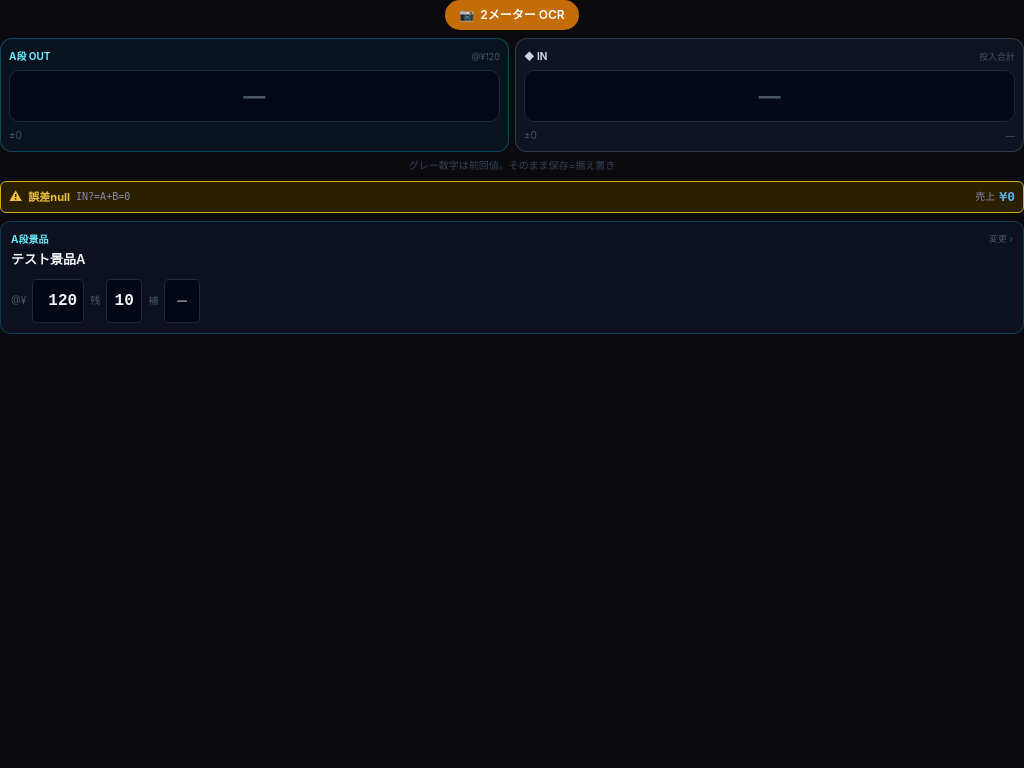
GachaInputV3 — 景品変更モーダルの誤発火防止 › モーダルを閉じると非表示になる
This screenshot has width=1024, height=768.
Click the text "変更 ›" at (1001,239), box [989,232,1013,246]
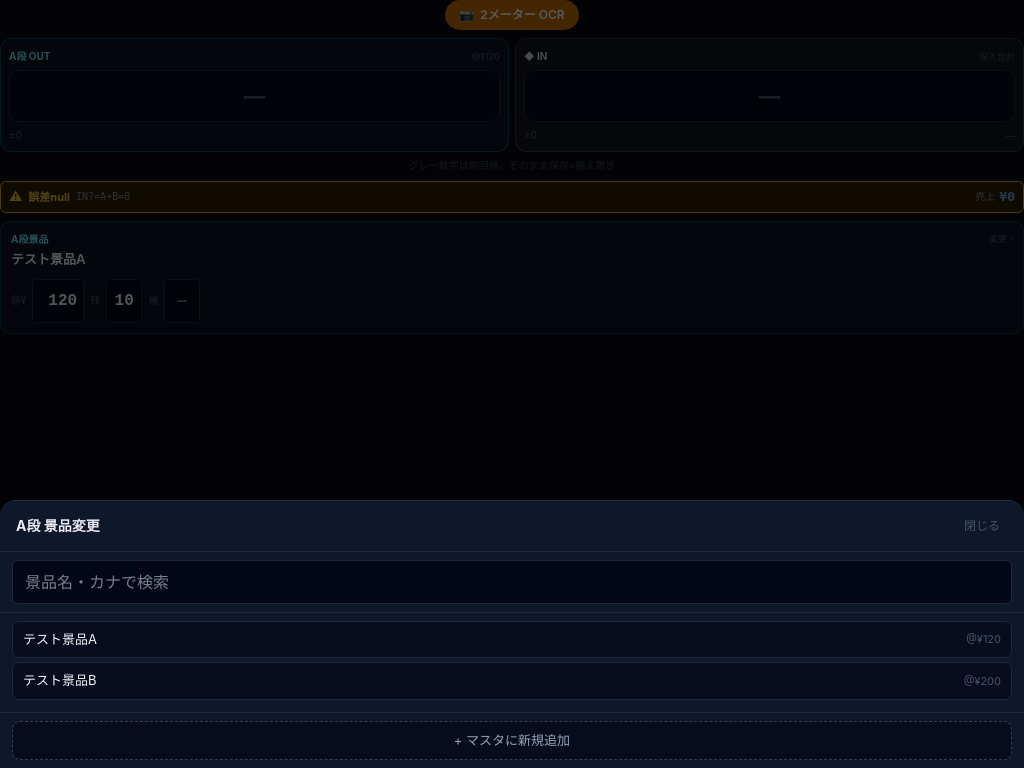
Check: the text "A段 景品変更" is shown, box [16,515,100,536]
「閉じる」ボタンをクリック
Click the button "閉じる" at (982,526), box [956,512,1008,538]
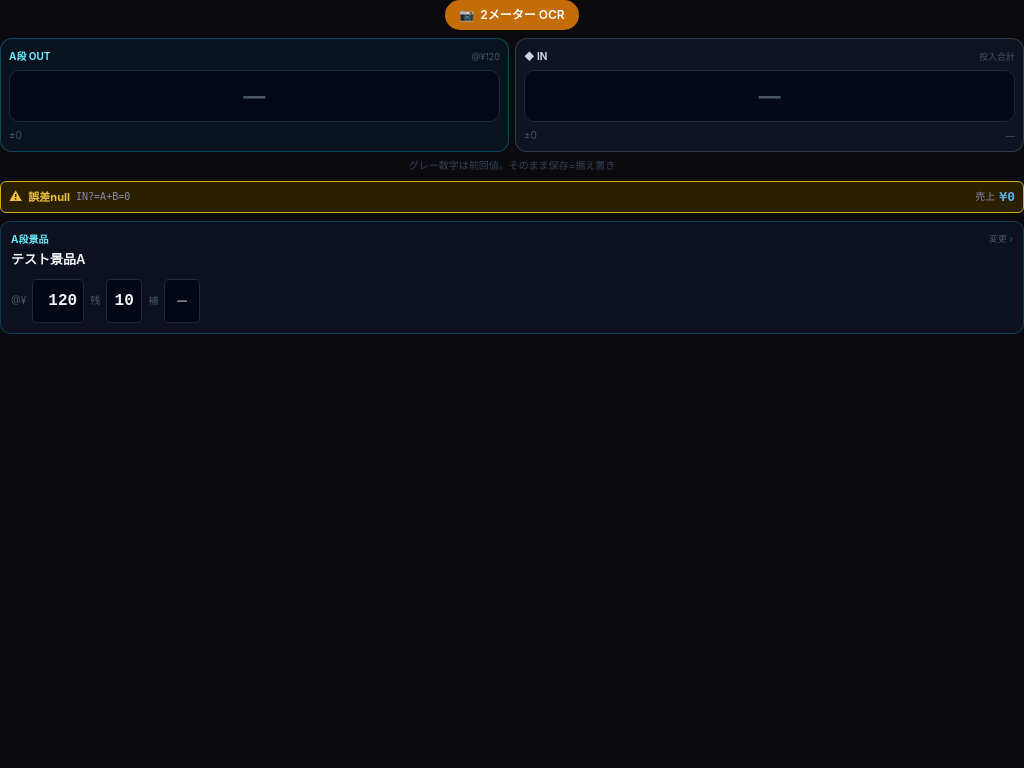
Check: the text "A段 景品変更" is gone
